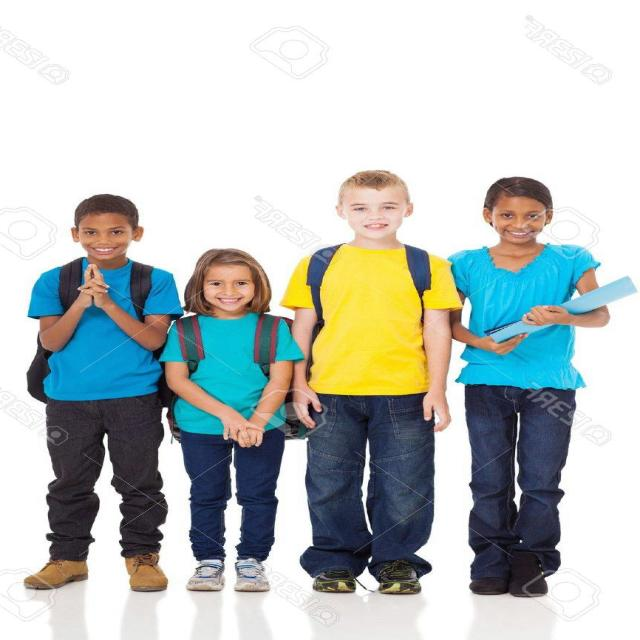child: (281, 169, 460, 599), (446, 173, 612, 598), (16, 189, 181, 614), (163, 244, 313, 596)
